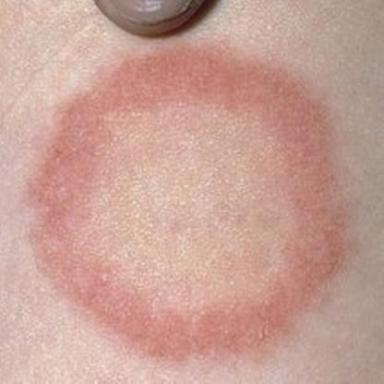Tinea-Corporis: (38, 50, 344, 360)
